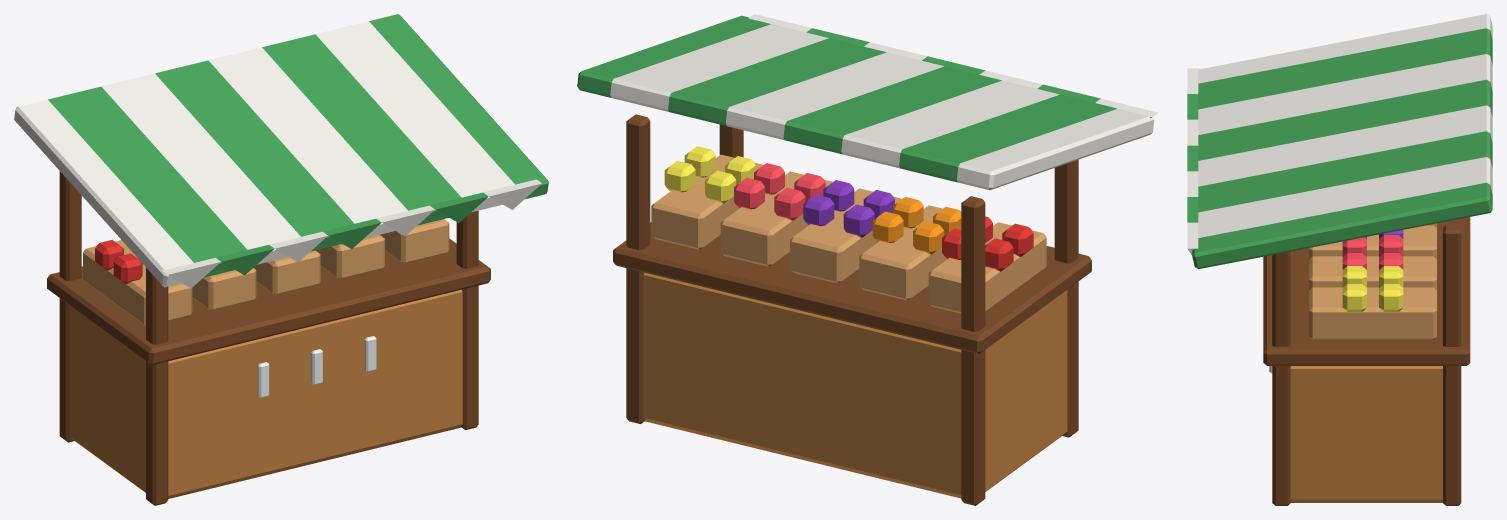
File: FruitStall.fbx
The picture shows the model from 3 angles, left to right: view 1: azimuth 30°, elevation 25°; view 2: azimuth 150°, elevation 25°; view 3: azimuth 270°, elevation 25°; orthographic projection. The views are drawn at different scales.
Visible parts, largest first — view 1: FruitStall; view 2: FruitStall; view 3: FruitStall.
Boxes of the visible parts, x1=… form: FruitStall: x1=14, y1=14, x2=548, y2=505; FruitStall: x1=577, y1=14, x2=1158, y2=505; FruitStall: x1=1187, y1=14, x2=1492, y2=505.
Size of the model in its own units: 7.2 by 5.86 by 5.02.
1 material, 1 textured.
